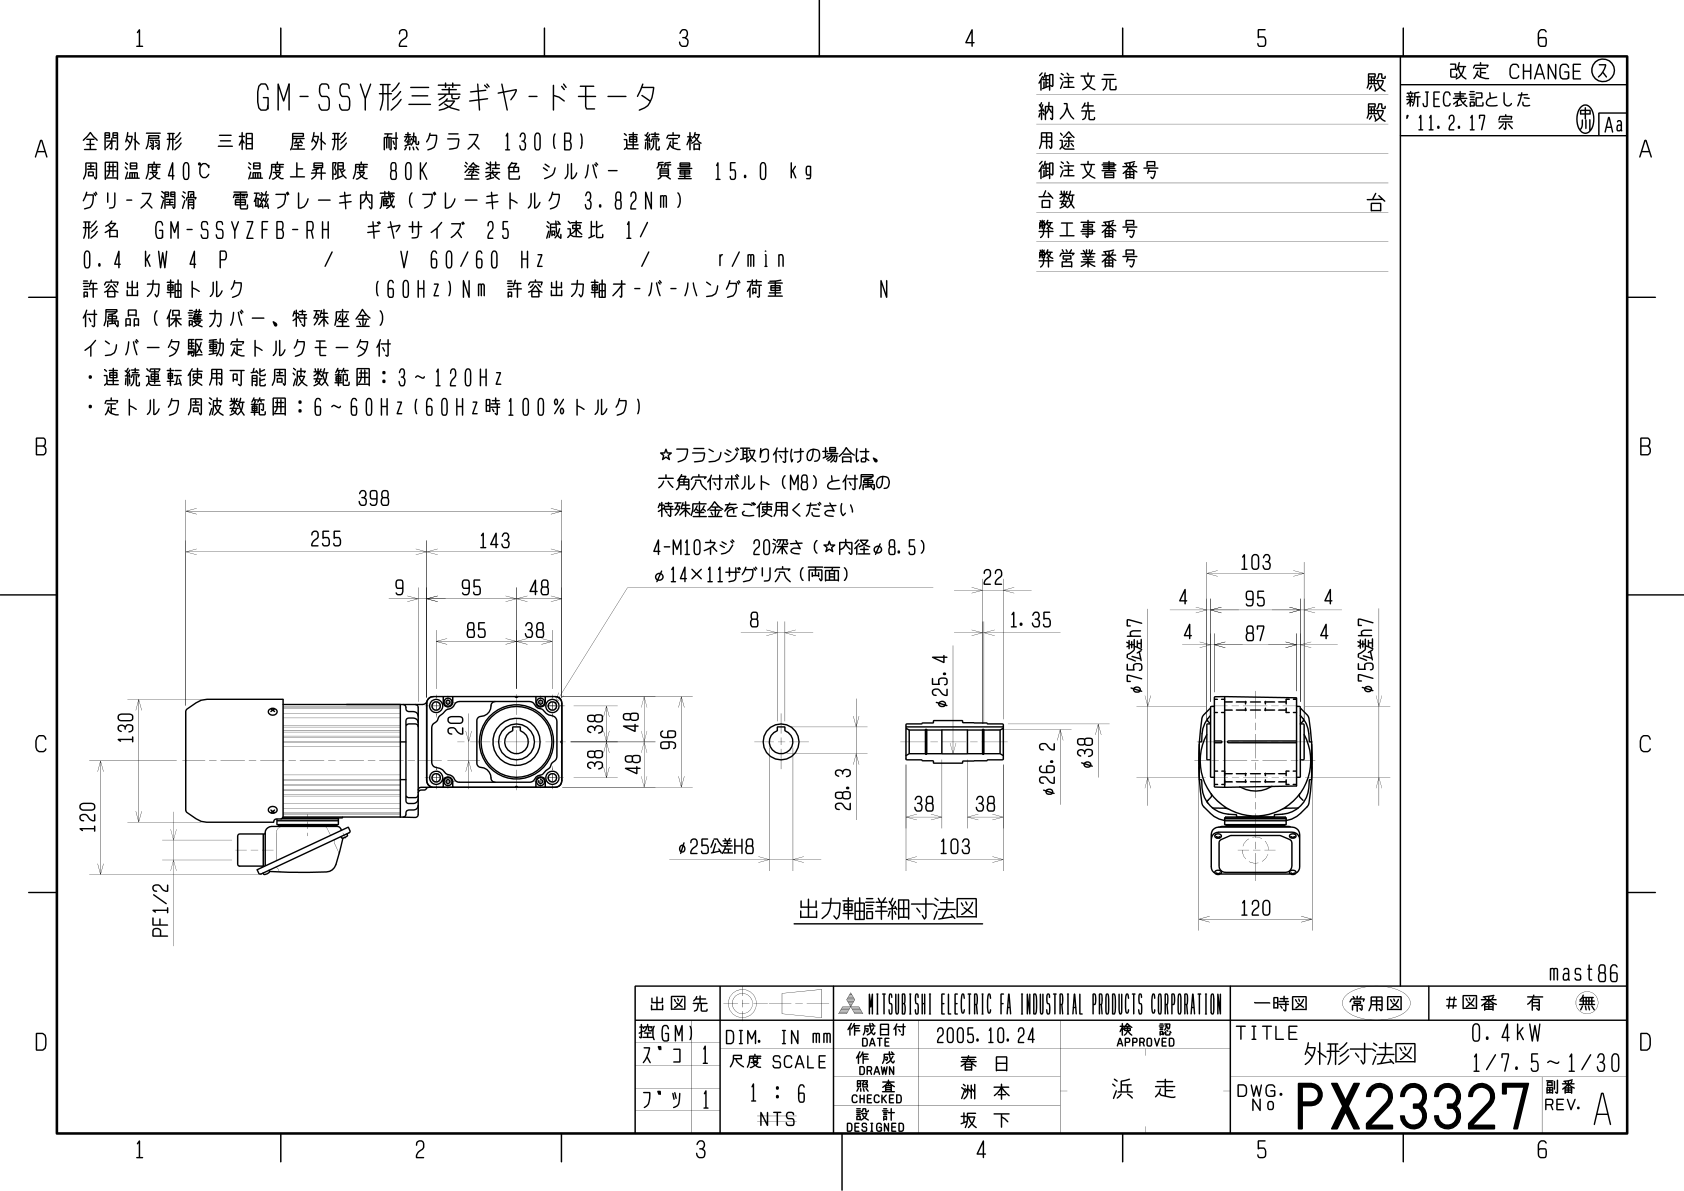GM_SSY_インバータ屋外_三相: (9, 6, 1684, 1191)
